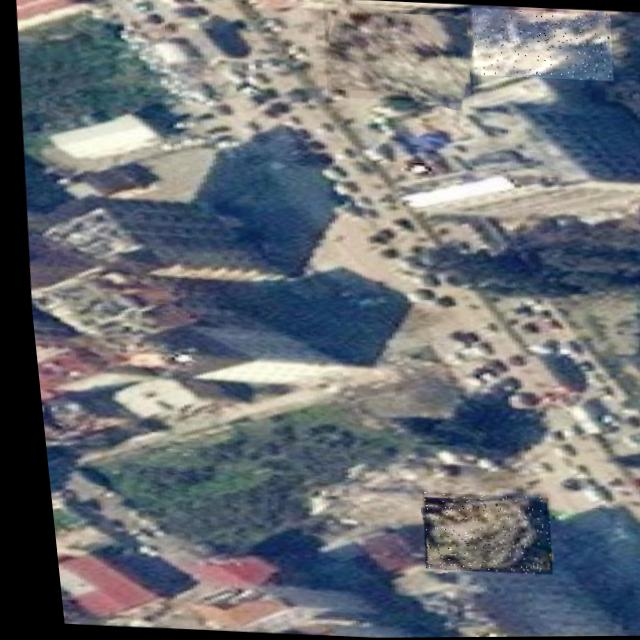Rubble: (318, 1, 478, 105), (407, 491, 544, 575), (468, 7, 615, 82)
